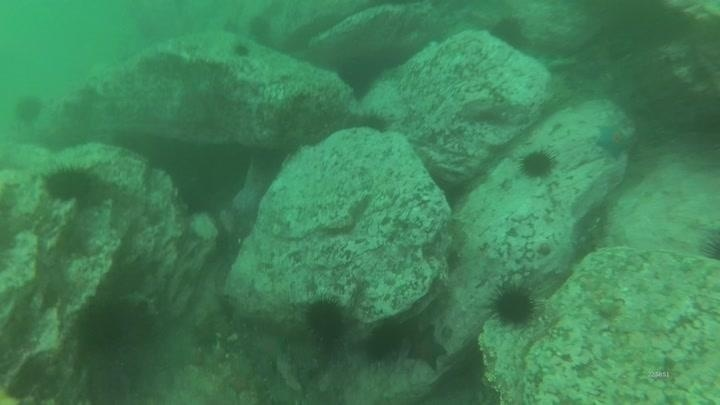echinus: (78, 296, 157, 358), (42, 163, 100, 206), (488, 282, 539, 328), (303, 296, 349, 347), (335, 55, 381, 98), (362, 319, 406, 363), (488, 15, 528, 50), (518, 147, 558, 181), (350, 109, 392, 135), (13, 94, 45, 125), (698, 227, 720, 265), (236, 11, 268, 36), (230, 40, 252, 60), (216, 16, 239, 35)
starfish: (404, 325, 447, 372), (245, 330, 289, 374), (593, 121, 635, 160)
